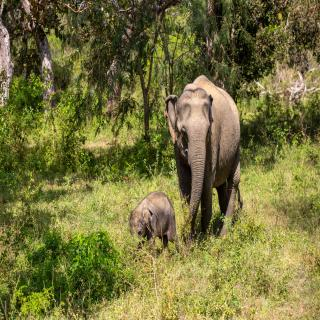Elephant: (165, 73, 258, 251), (123, 190, 177, 252)
